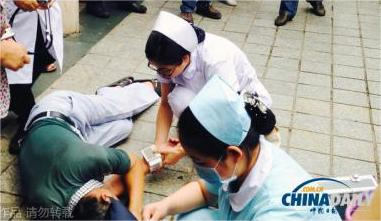bending: (156, 83, 341, 221), (133, 17, 282, 164)
down: (14, 70, 168, 221)
